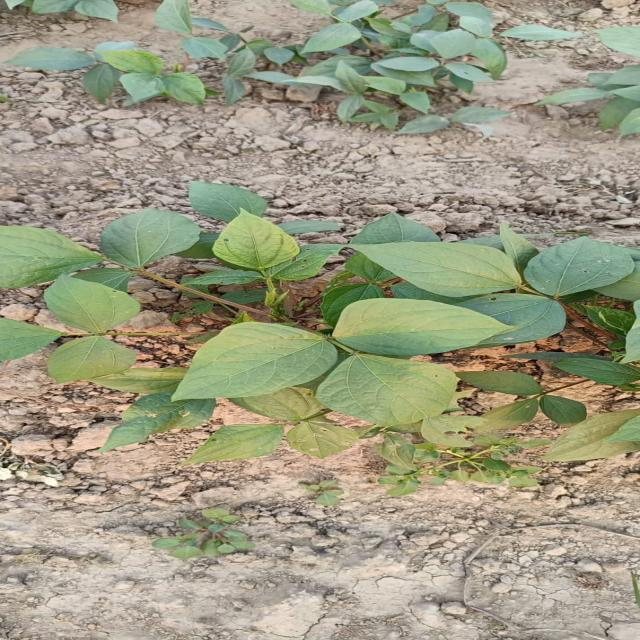plant: (0, 181, 640, 494)
